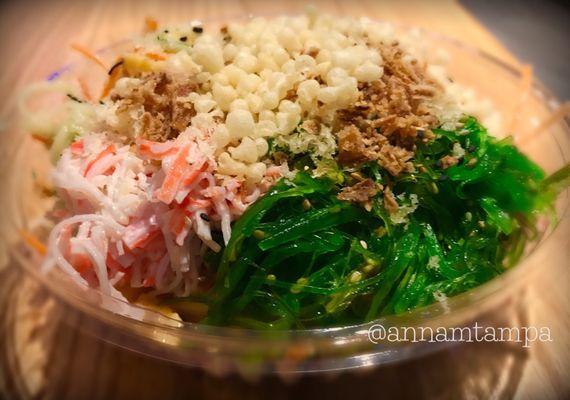sushi: (2, 4, 560, 385)
